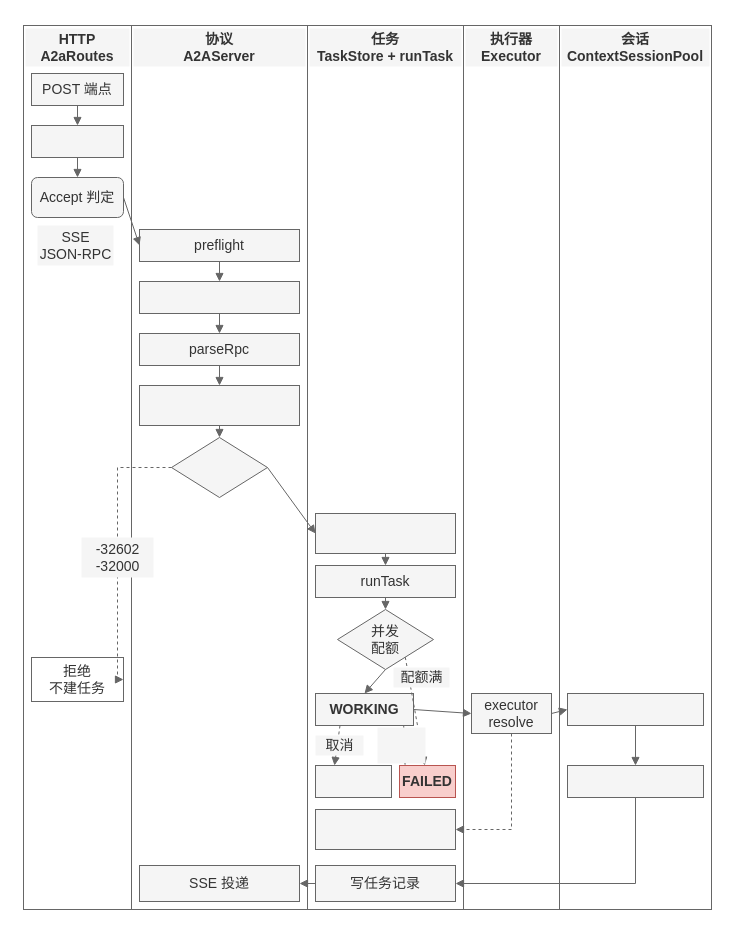
The diagram is 734 pixels wide and 934 high, and some of its shapes have lost their labels. The box of each missing label's shape, as (x1, y1, x2, y2) in pixels:
A2A-Version: (138, 280, 300, 314)
artifact · status: (566, 764, 704, 798)
CANCELED: (314, 764, 392, 798)
ensureTask 新建 · 续接 · 重放: (314, 512, 456, 554)
INPUT_REQUIRED AUTH_REQUIRED: (314, 808, 456, 850)
SendMessage acceptedOutputModes: (138, 384, 300, 426)
一轮会话: (566, 692, 704, 726)
技能 门禁: (170, 436, 268, 498)
读 body: (30, 124, 124, 158)
超时 异常: (377, 727, 425, 763)
